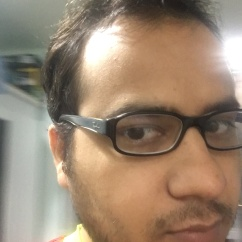glasses: (58, 110, 242, 147)
